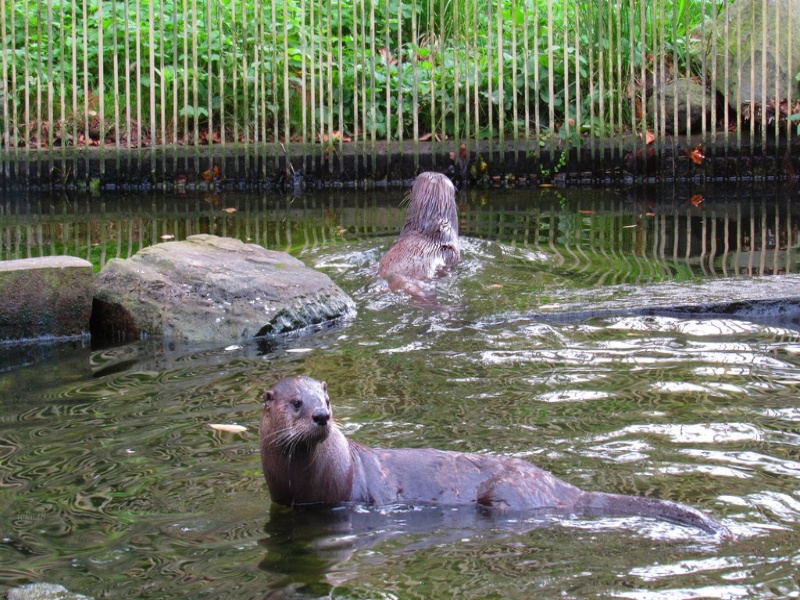minkish: (254, 373, 729, 551), (372, 167, 483, 313)
